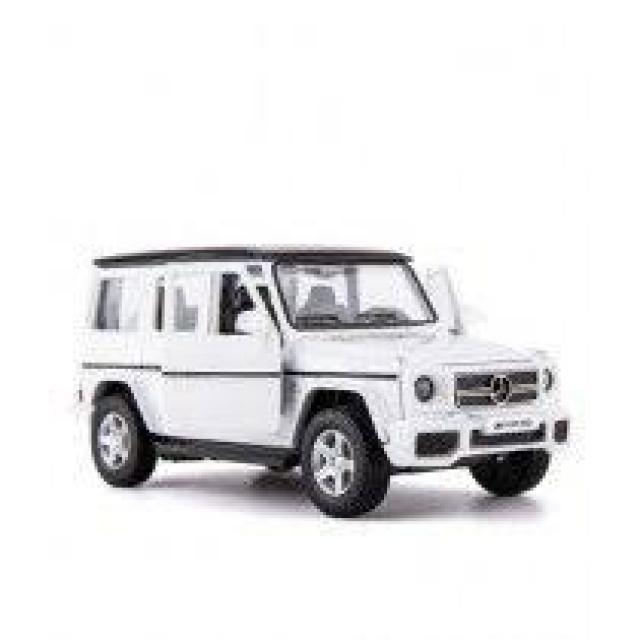Car: (70, 244, 570, 518)
